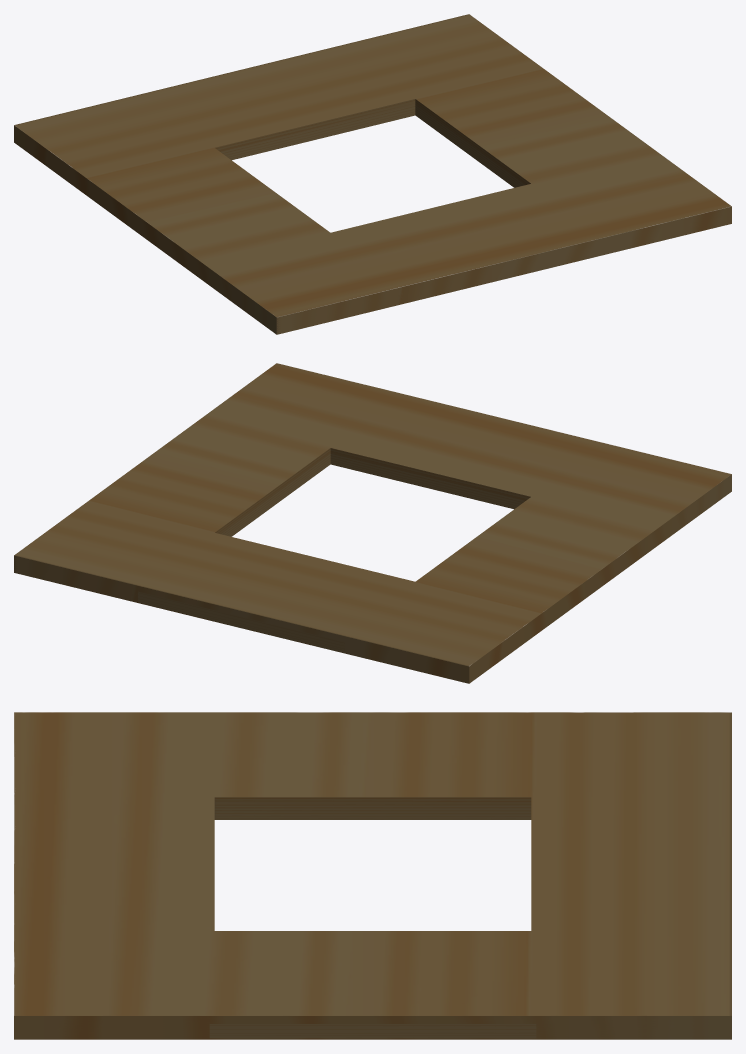
File: BossMap.obj
The picture shows the model from 3 angles, top to bottom: view 1: azimuth 30°, elevation 25°; view 2: azimuth 150°, elevation 25°; view 3: azimuth 270°, elevation 25°; orthographic projection. The views are drawn at different scales.
Parts seen in each view (by area): view 1: Cube; view 2: Cube; view 3: Cube.
Part boxes in pixels (x1=…): Cube: x1=14, y1=14, x2=731, y2=334; Cube: x1=14, y1=363, x2=731, y2=683; Cube: x1=14, y1=712, x2=731, y2=1039.
Size of the model in its own units: 76.63 by 2.79 by 76.63.
